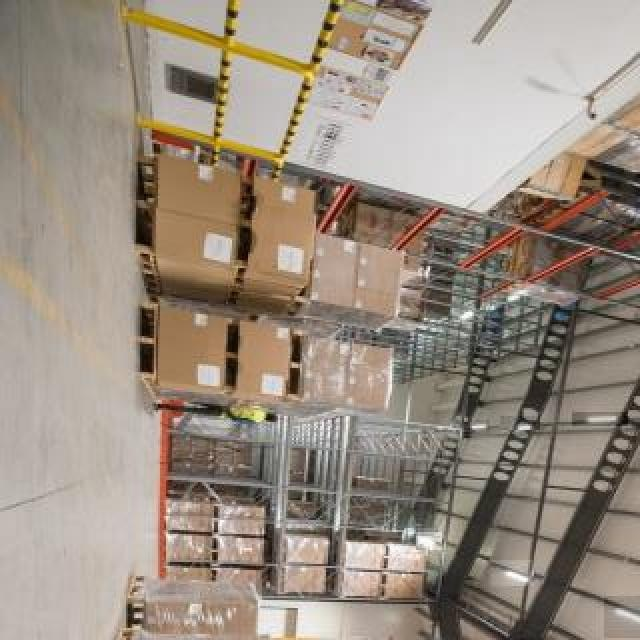fluorescent tube: (572, 400, 632, 433), (602, 598, 640, 636), (489, 565, 544, 591)
